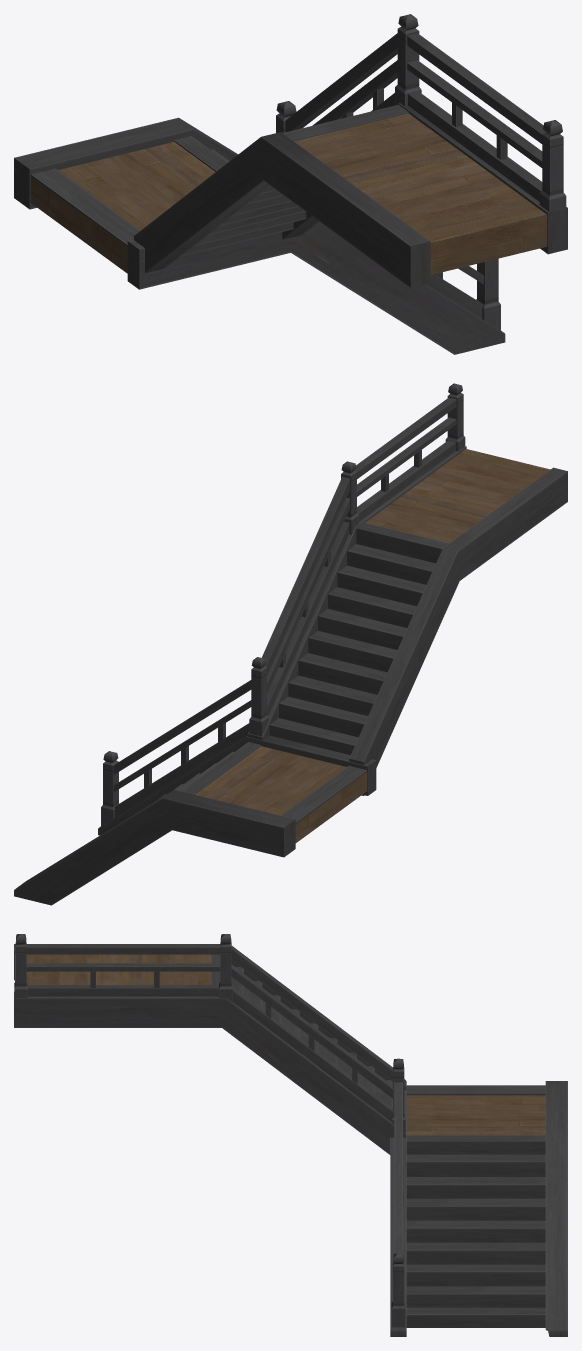
The model's file is Homeworld_Interior_Dq_Room_K_Stair_01_Vo.fbx.
3 renders of one model, top to bottom at view 1: azimuth 30°, elevation 25°; view 2: azimuth 150°, elevation 25°; view 3: azimuth 270°, elevation 25°, orthographic. The views are drawn at different scales.
Visible parts, largest first — view 1: Homeworld_Interior_Dq_Room_K_Stair_01_Vo; view 2: Homeworld_Interior_Dq_Room_K_Stair_01_Vo; view 3: Homeworld_Interior_Dq_Room_K_Stair_01_Vo.
Part boxes in pixels (x1,y1,x2,y2): Homeworld_Interior_Dq_Room_K_Stair_01_Vo: (14, 14, 567, 354); Homeworld_Interior_Dq_Room_K_Stair_01_Vo: (14, 383, 567, 905); Homeworld_Interior_Dq_Room_K_Stair_01_Vo: (14, 934, 567, 1336).
Bounding box in the file's own units: 5.4 × 6.55 × 9.99.
